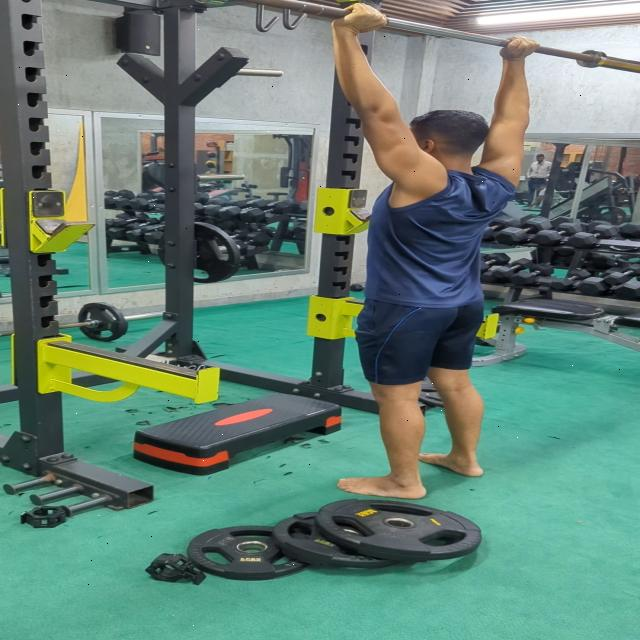Normal_OverheadPress: (267, 3, 542, 502)
